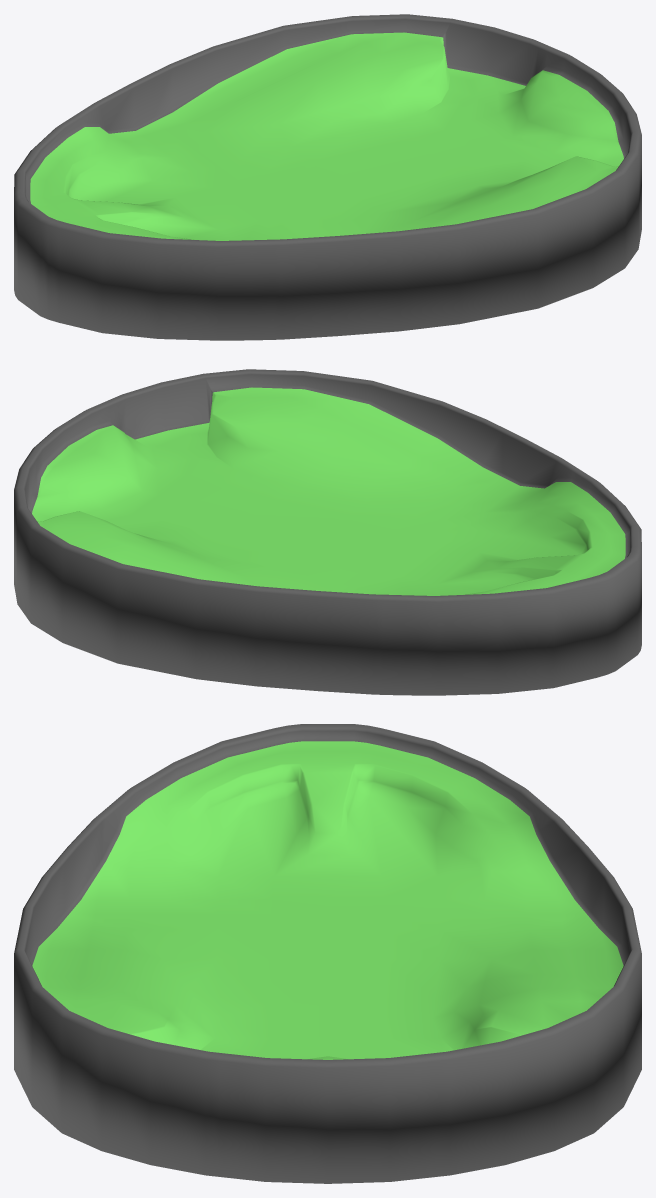
Rendered from FaceCourse.fbx.
3 renders of one model, top to bottom at view 1: azimuth 30°, elevation 25°; view 2: azimuth 150°, elevation 25°; view 3: azimuth 270°, elevation 25°, orthographic. The views are drawn at different scales.
Visible parts, largest first — view 1: Cylinder; view 2: Cylinder; view 3: Cylinder.
Boxes of the visible parts, left/top/right/bottom form: Cylinder: left=14, top=14, right=641, bottom=340; Cylinder: left=14, top=369, right=641, bottom=695; Cylinder: left=14, top=724, right=641, bottom=1183.
Bounding box in the file's own units: 2332 × 379 × 1805.
